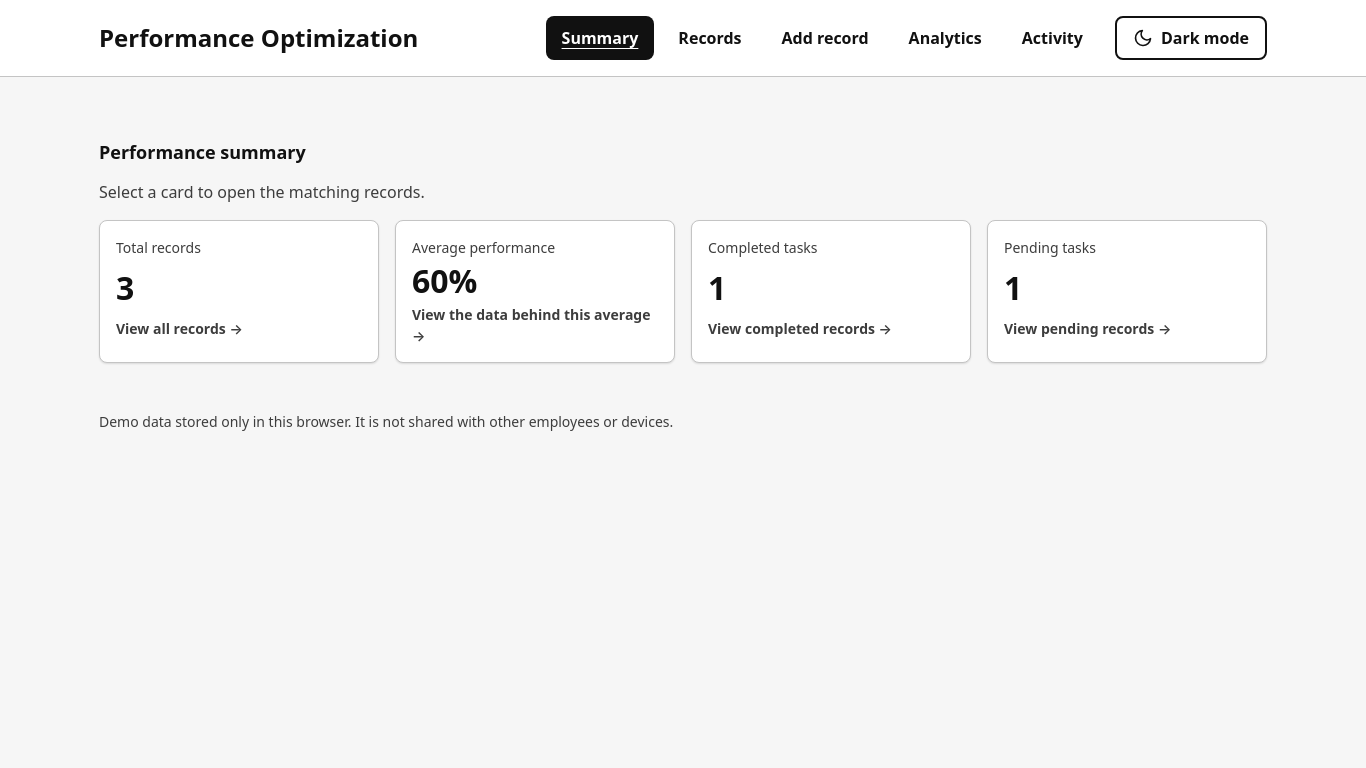
theme toggle › defaults to light and switches both ways, updating the label and <html data-theme>
The width and height of the screenshot is (1366, 768).
Click the button with aria-label "Switch to dark mode". click: (1191, 38)
box: [1115,16,1267,60]
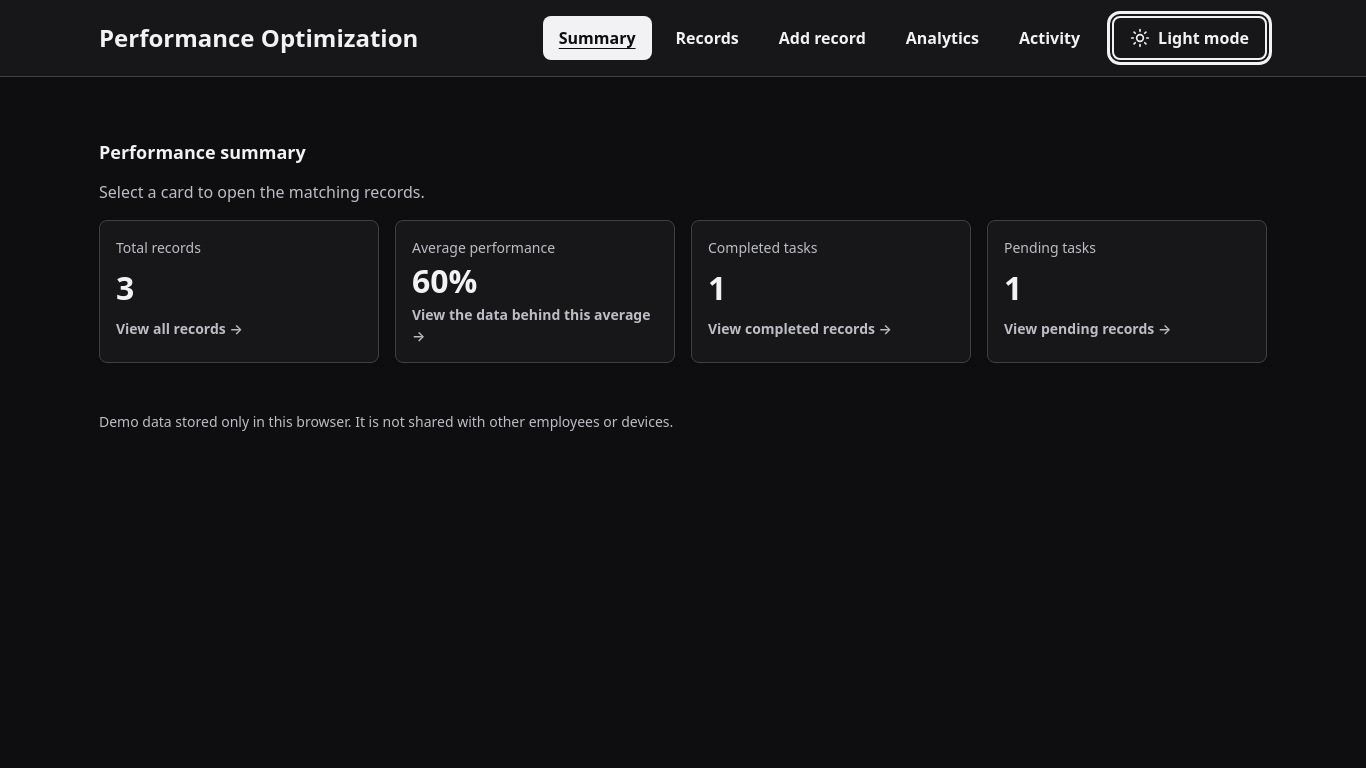
Click the button with aria-label "Switch to light mode". click: (1190, 38)
box: [1112,16,1267,60]
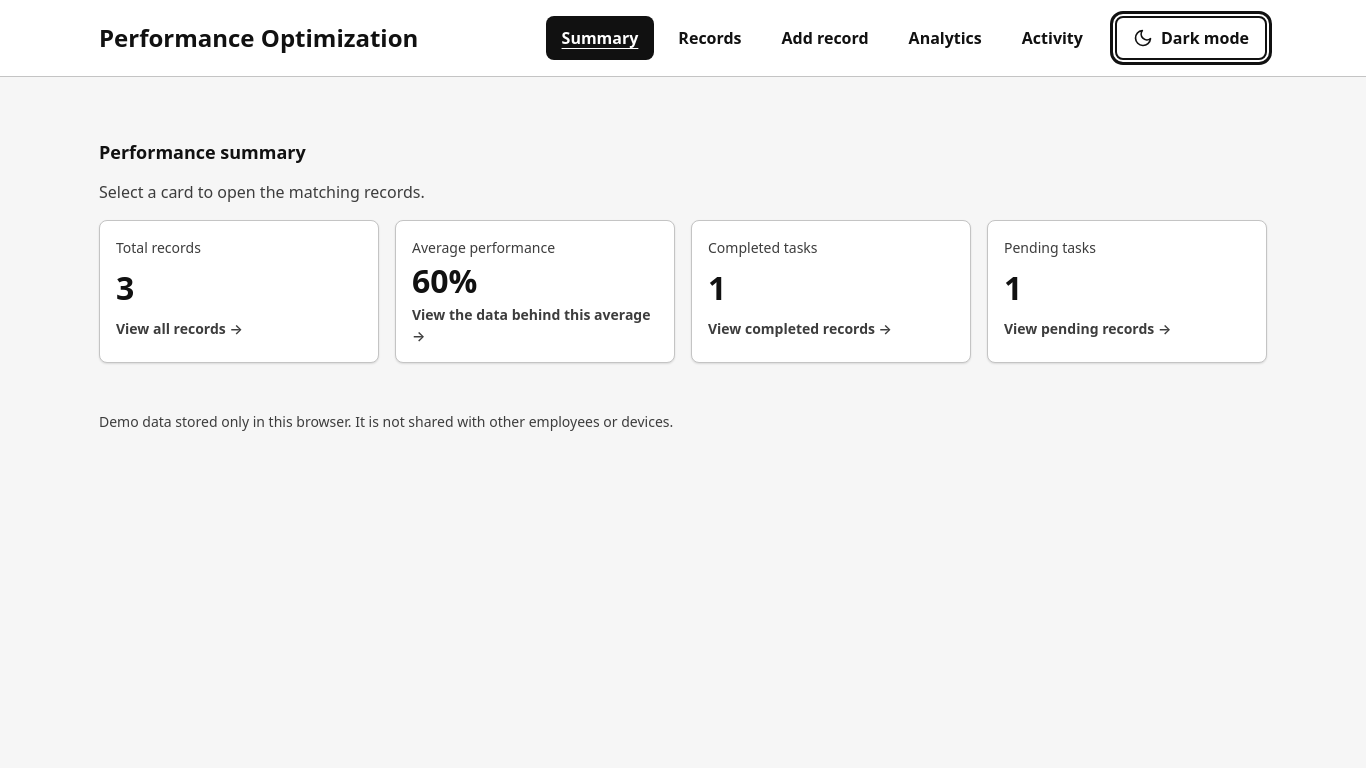
Expected: the button with aria-label "Switch to dark mode" is shown, [1115,16,1267,60]
